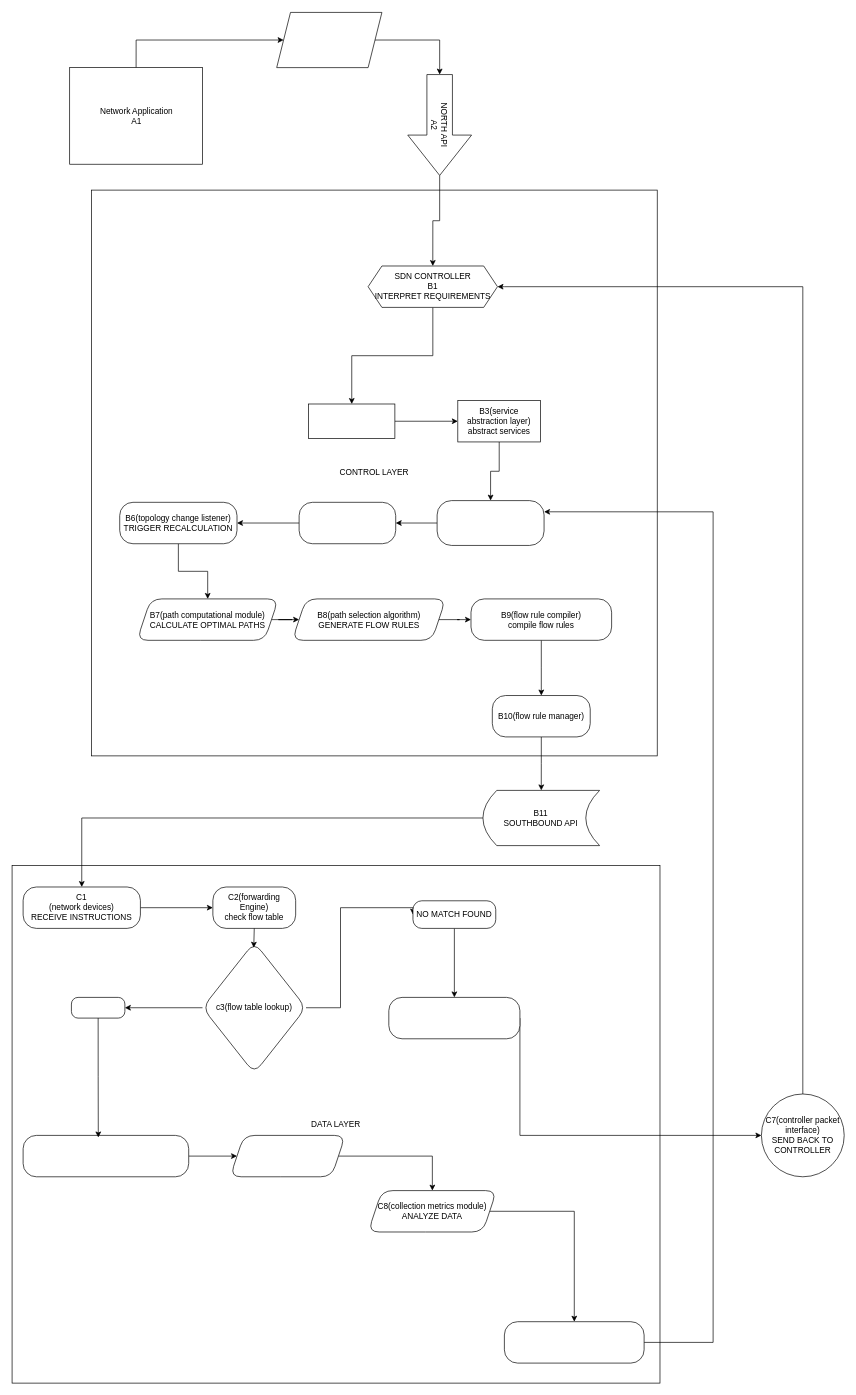
This 856x1395 diagram has some shape labels left out. Here are the shapes that lost their labels. From the top down, the centre of each, then its label:
At point (329, 40): "submit requirements A2".
At point (351, 420): "B2 policy engine DEFINE POLICIES".
At point (347, 523): "B5(topology database) NOTIFY CHANGES".
At point (490, 522): "B4(network topology layer) UPDATE TOPOLOGY".
At point (98, 1007): "MATCH FOUND".
At point (454, 1018): "C6(packet buffer) SEND UNMATCHED PACKETS".
At point (105, 1156): "C4(packet Processor) FORWARD/DROP/MODIFY PACKETS".
At point (287, 1156): "C5(execute actions) collect metrics".
At point (574, 1342): "C9(monitoring agent) REPORT TO CONTROLLER".
